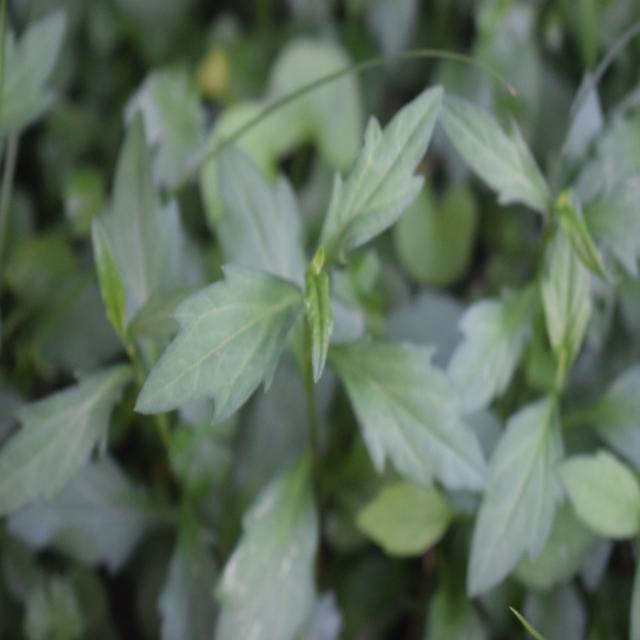Indian aster: (189, 104, 474, 518)
